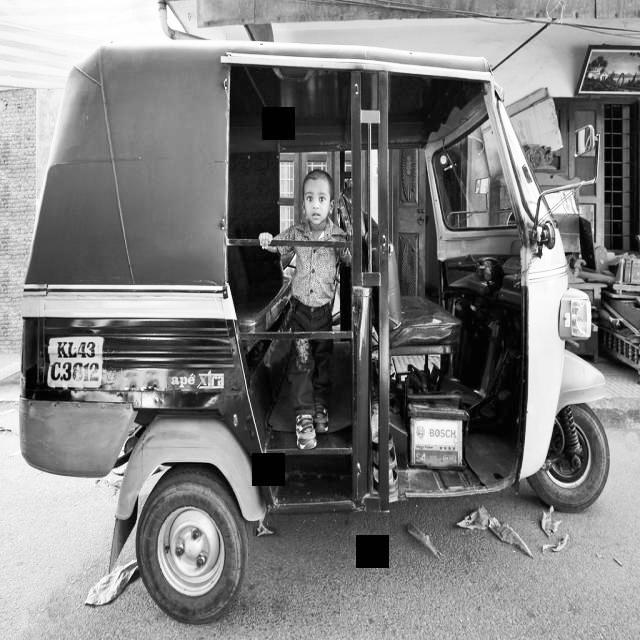Auto-Rickshaw: (37, 18, 623, 620)
